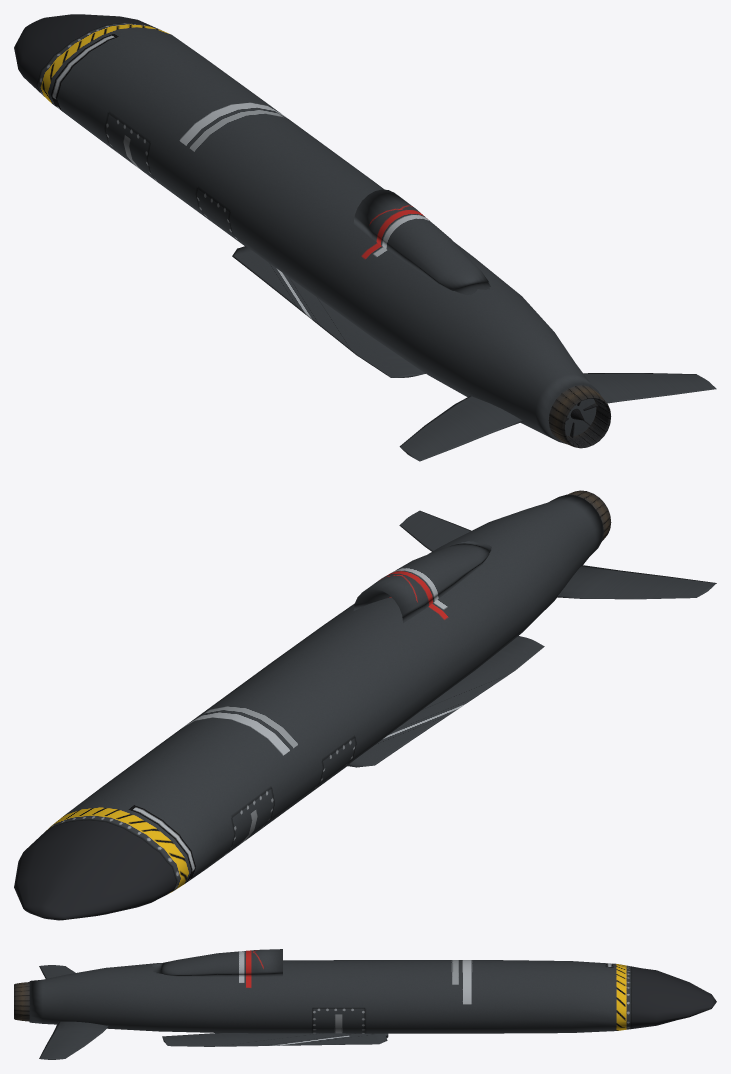
Rendered from CHAMP.fbx.
3 renders of one model, top to bottom at view 1: azimuth 30°, elevation 25°; view 2: azimuth 150°, elevation 25°; view 3: azimuth 270°, elevation 25°, orthographic. The views are drawn at different scales.
Visible parts, largest first — view 1: CHAMP_Fuselage, CHAMP_Wing_L, CHAMP_Fin_L, CHAMP_Fin_R, CHAMP_Engine; view 2: CHAMP_Fuselage, CHAMP_Wing_L, CHAMP_Fin_L, CHAMP_Fin_R; view 3: CHAMP_Fuselage, CHAMP_Wing_R, CHAMP_Fin_R, CHAMP_Engine, CHAMP_Fin_L.
Part boxes in pixels (bbox=[...]): CHAMP_Fuselage: bbox=[14, 14, 601, 444]; CHAMP_Wing_L: bbox=[232, 246, 425, 377]; CHAMP_Fin_L: bbox=[399, 395, 523, 461]; CHAMP_Fin_R: bbox=[583, 373, 716, 403]; CHAMP_Engine: bbox=[548, 385, 611, 448]; CHAMP_Fuselage: bbox=[14, 494, 603, 920]; CHAMP_Wing_L: bbox=[347, 636, 544, 767]; CHAMP_Fin_L: bbox=[557, 565, 716, 599]; CHAMP_Fin_R: bbox=[399, 510, 471, 551]; CHAMP_Fuselage: bbox=[29, 949, 716, 1033]; CHAMP_Wing_R: bbox=[162, 1033, 388, 1046]; CHAMP_Fin_R: bbox=[39, 1021, 108, 1059]; CHAMP_Engine: bbox=[14, 982, 29, 1021]; CHAMP_Fin_L: bbox=[39, 965, 75, 978].
Size of the model in its own units: 1.7 by 0.6373 by 5.36.
4 materials, 4 textured.
